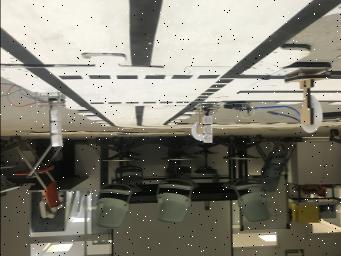traffic_light: (35, 92, 66, 151), (35, 92, 66, 151), (35, 92, 66, 151), (35, 92, 66, 151), (35, 92, 66, 151), (196, 104, 217, 143), (196, 104, 217, 143), (196, 104, 217, 143), (196, 104, 217, 143), (196, 104, 217, 143)
